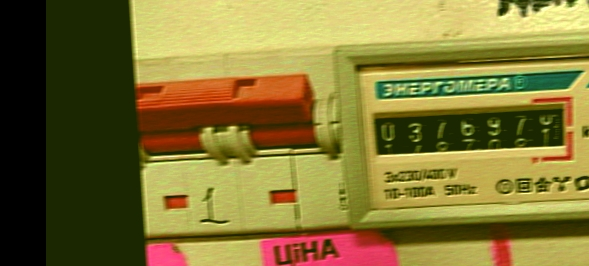0: (381, 121, 397, 144)
1: (540, 128, 553, 148)
3: (408, 122, 425, 145)
6: (460, 115, 477, 139)
7: (433, 117, 450, 141), (514, 114, 530, 138)
9: (486, 115, 503, 139)
screen: (364, 92, 580, 179)
